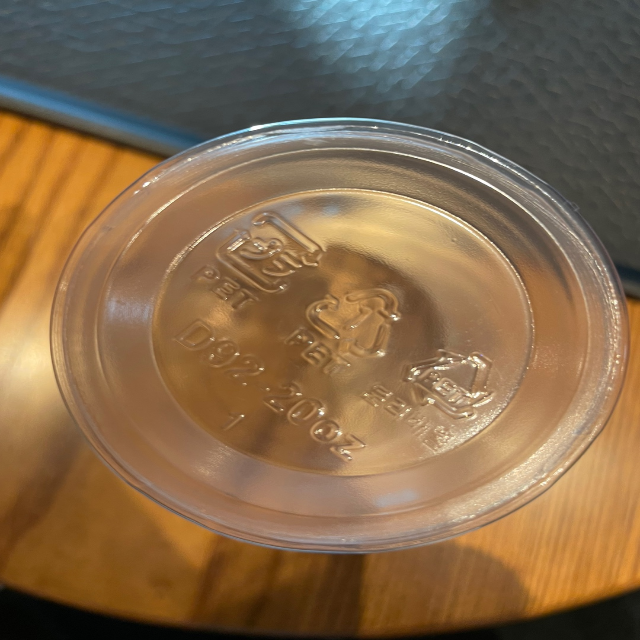pet: (356, 340, 517, 456), (186, 205, 329, 319), (283, 280, 406, 381)
